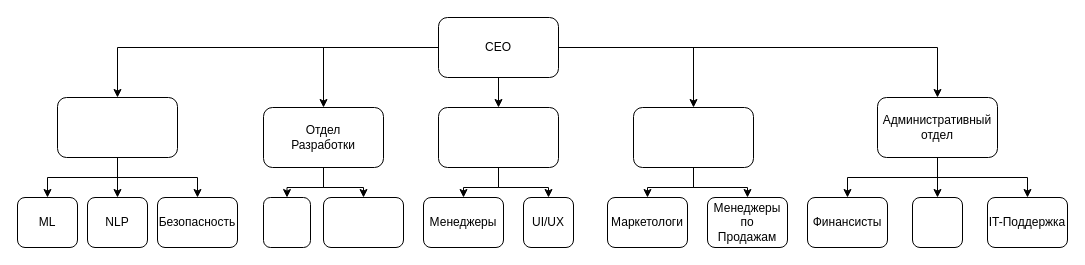
Image size: 1085x265. Some labels were removed from this diagram. Each missing label, with the centre of its shape:
"HR" goes at pixel 937 222.
"QA" goes at pixel 286 222.
"Инженеры" goes at pixel 363 222.
"Исследовательский Отдел" goes at pixel 117 127.
"Отдел Маркетинга и Продаж" goes at pixel 693 137.
"Отдел по продук там" goes at pixel 498 137.
